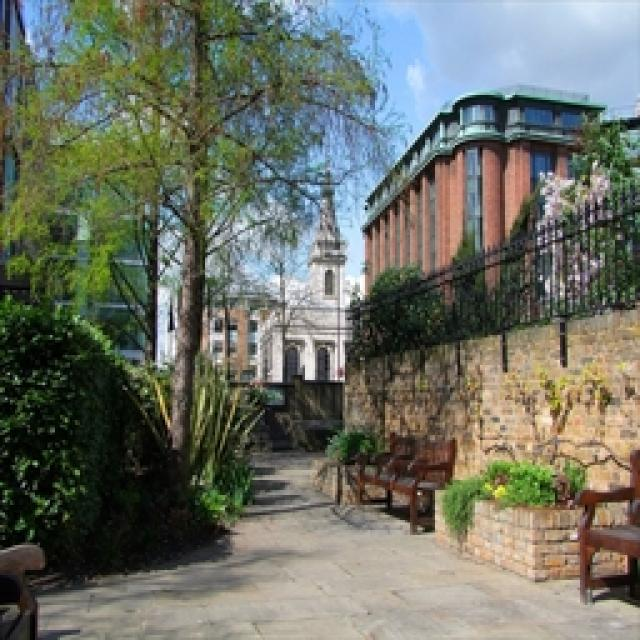Abbey: (258, 161, 391, 421)
